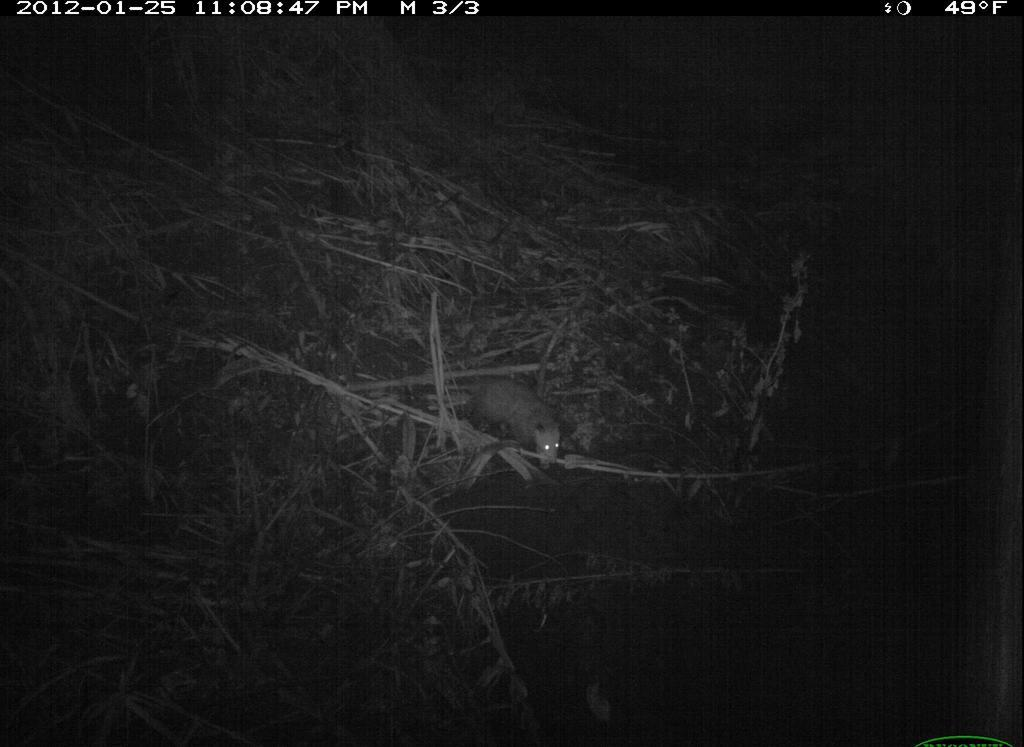opossum: (450, 361, 585, 483)
